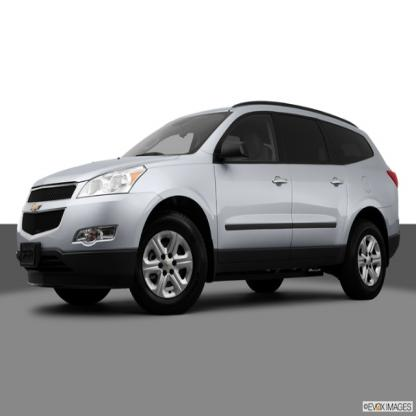car: (14, 95, 405, 318)
